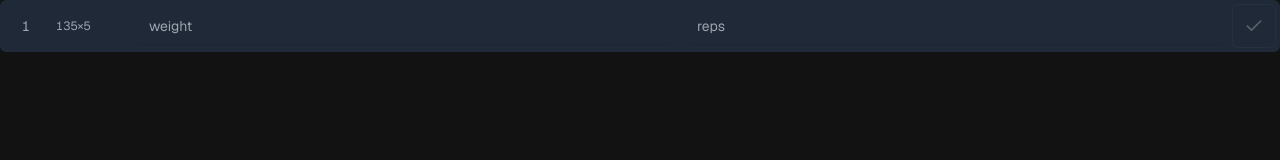
Test: ticking a set › shows last time at a weight a bar can be loaded to, and fills that in
Click the button named "use last time: 135 lb by 5".
click(92, 26)  # box top-left (56, 18), bottom-right (128, 34)
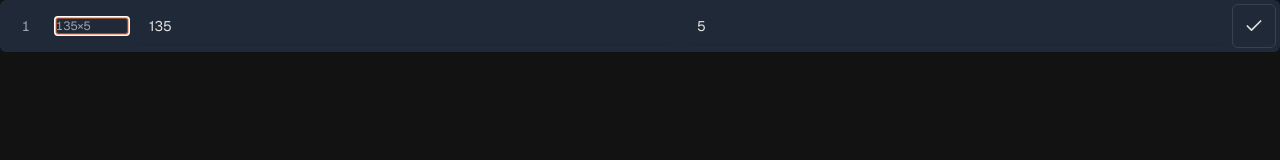
expect the number field named "weight for set 1 in lb" holds "135": met, box top-left (136, 8), bottom-right (676, 44)
